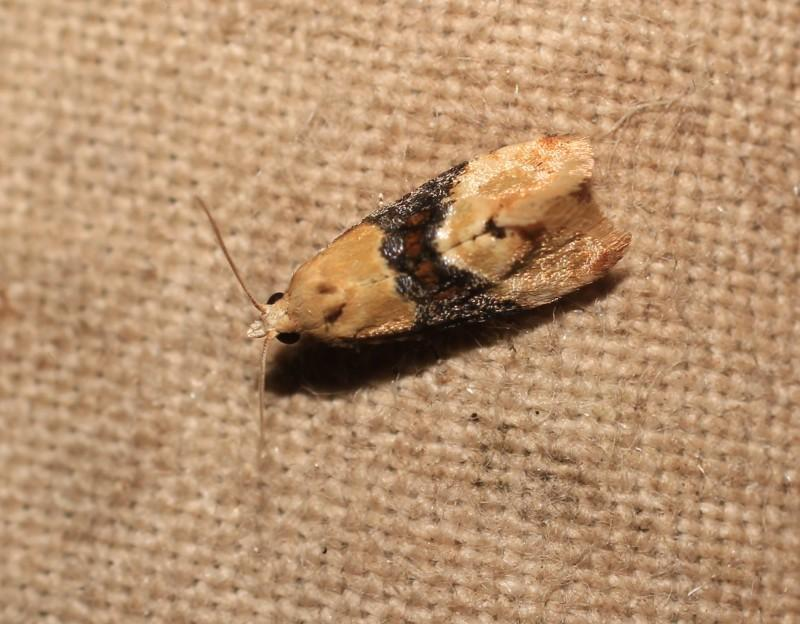Eupoecilia Ambiguella: (191, 129, 633, 458)
